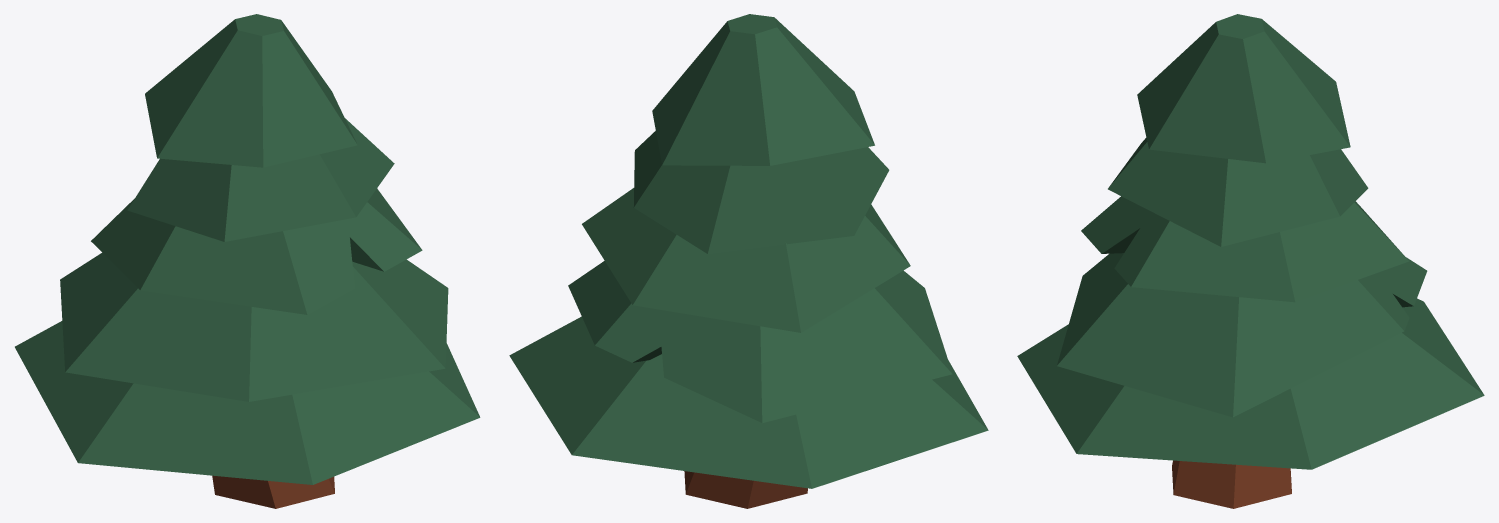
The model's file is tree2.fbx.
3 renders of one model, left to right at view 1: azimuth 30°, elevation 25°; view 2: azimuth 150°, elevation 25°; view 3: azimuth 270°, elevation 25°, orthographic. The views are drawn at different scales.
Visible parts, largest first — view 1: Cylinder.001, Cylinder.005, Cylinder.004, Cylinder.002, Cylinder.003, Cylinder; view 2: Cylinder.005, Cylinder.001, Cylinder.002, Cylinder.004, Cylinder.003, Cylinder; view 3: Cylinder.005, Cylinder.001, Cylinder.004, Cylinder.002, Cylinder.003, Cylinder.
Boxes of the visible parts, x1=… form: Cylinder.001: x1=60, y1=252, x2=448, y2=401; Cylinder.005: x1=15, y1=321, x2=480, y2=484; Cylinder.004: x1=145, y1=14, x2=357, y2=167; Cylinder.002: x1=91, y1=188, x2=422, y2=314; Cylinder.003: x1=127, y1=118, x2=394, y2=241; Cylinder: x1=212, y1=475, x2=334, y2=508; Cylinder.005: x1=509, y1=316, x2=988, y2=488; Cylinder.001: x1=568, y1=261, x2=952, y2=422; Cylinder.002: x1=582, y1=188, x2=910, y2=332; Cylinder.004: x1=652, y1=14, x2=874, y2=165; Cylinder.003: x1=633, y1=131, x2=889, y2=253; Cylinder: x1=684, y1=471, x2=807, y2=508; Cylinder.005: x1=1017, y1=298, x2=1484, y2=469; Cylinder.001: x1=1057, y1=253, x2=1427, y2=417; Cylinder.004: x1=1137, y1=14, x2=1350, y2=163; Cylinder.002: x1=1081, y1=196, x2=1409, y2=302; Cylinder.003: x1=1108, y1=138, x2=1368, y2=246; Cylinder: x1=1172, y1=460, x2=1291, y2=508.
Bounding box in the file's own units: 204 × 216 × 204.
